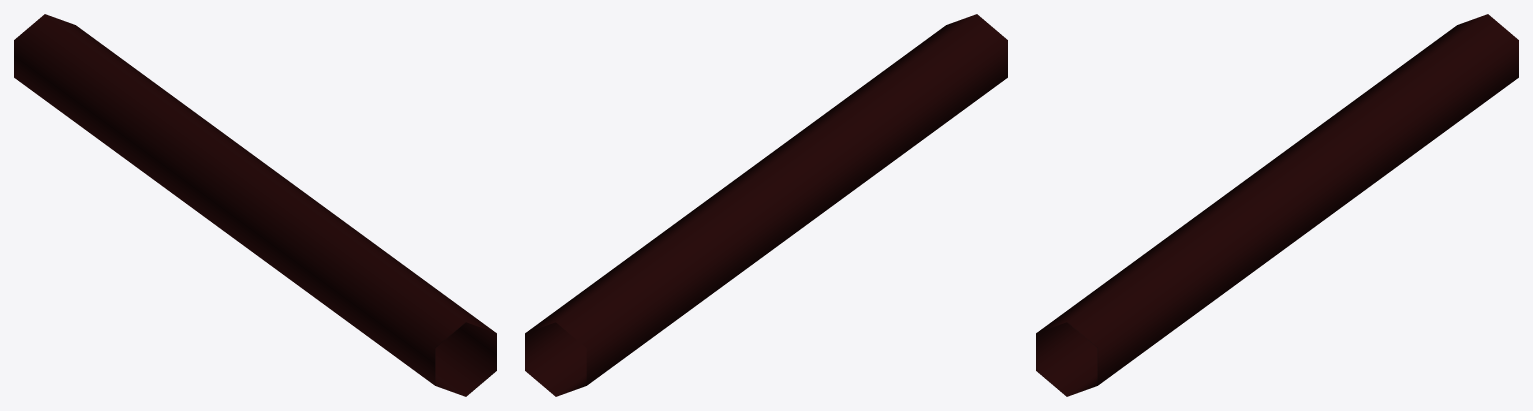
File: blood_vessel.gltf
3 views of the same model, side by side, from view 1: azimuth 30°, elevation 25°; view 2: azimuth 150°, elevation 25°; view 3: azimuth 330°, elevation 25° (orthographic).
Visible parts, largest first — view 1: Cylinder.002; view 2: Cylinder.002; view 3: Cylinder.002.
Boxes of the visible parts, x1,y1,x2,y2 form: Cylinder.002: (14, 14, 496, 396); Cylinder.002: (525, 14, 1007, 396); Cylinder.002: (1036, 14, 1518, 396).
Size of the model in its own units: 1.73 by 2 by 20.44.
1 material, 1 textured.
